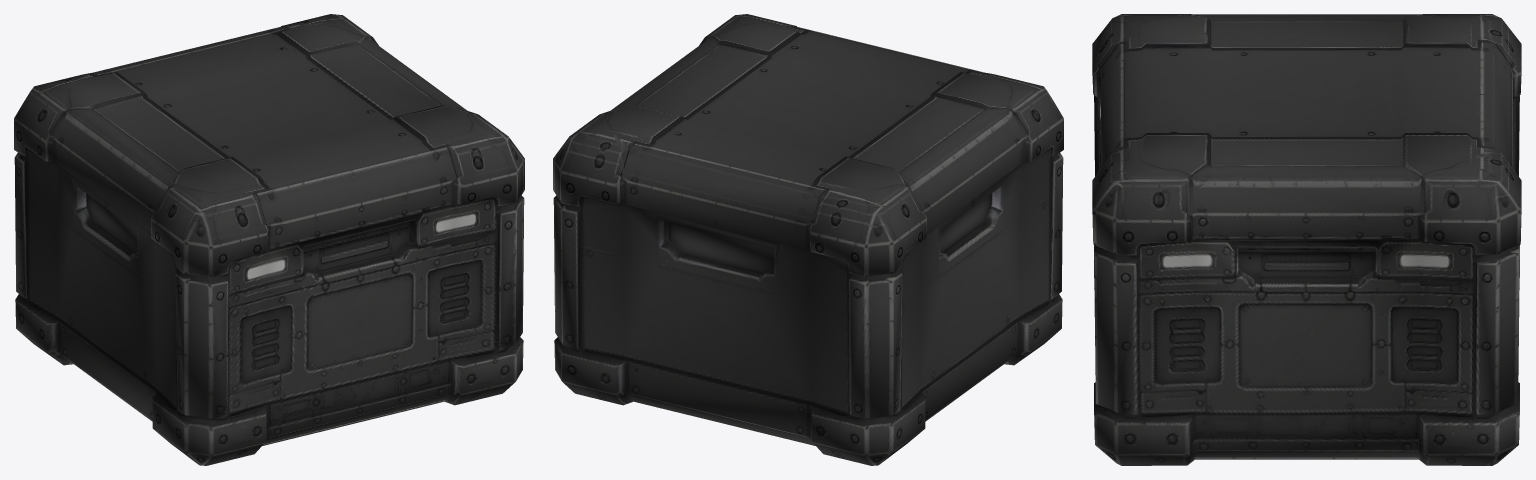
Rendered from Crate.fbx.
3 views of the same model, side by side, from view 1: azimuth 30°, elevation 25°; view 2: azimuth 150°, elevation 25°; view 3: azimuth 270°, elevation 25° (orthographic). The views are drawn at different scales.
Parts seen in each view (by area): view 1: tripo_node_d487b1f7; view 2: tripo_node_d487b1f7; view 3: tripo_node_d487b1f7.
Part boxes in pixels (box(x1,y1,x2,y2)): tripo_node_d487b1f7: box(14, 14, 524, 465); tripo_node_d487b1f7: box(553, 14, 1063, 465); tripo_node_d487b1f7: box(1092, 14, 1521, 465).
Bounding box in the file's own units: 0.998 × 0.7324 × 0.9707.
